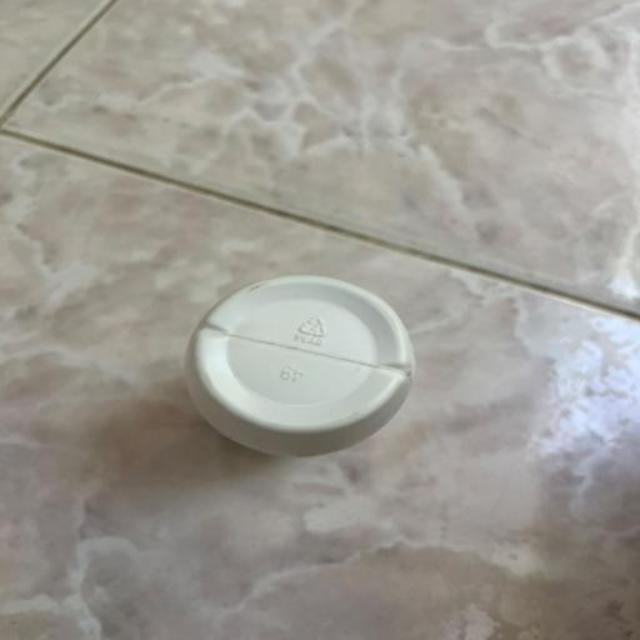HDPE: (178, 265, 411, 496)
